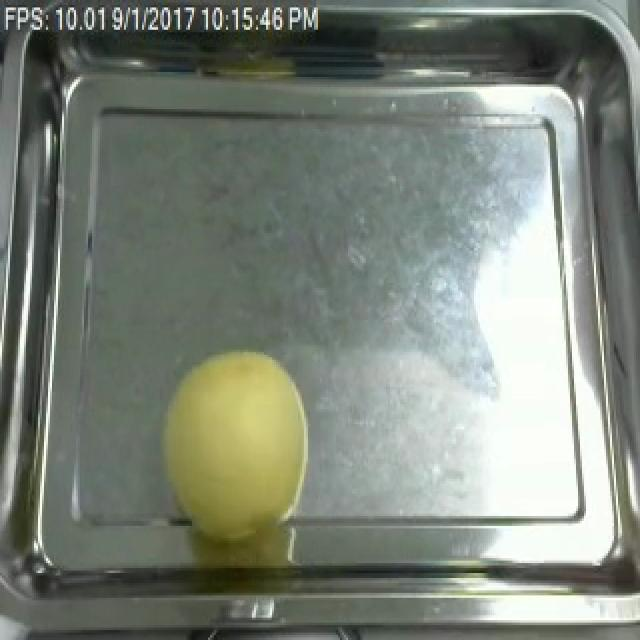Fruit: (152, 340, 320, 538)
